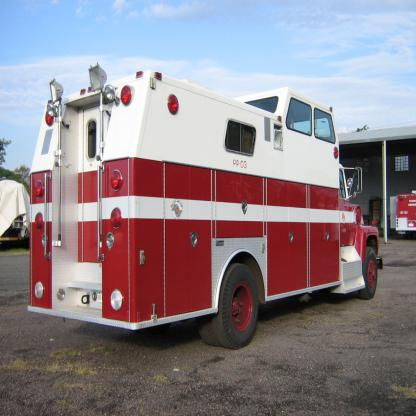Truck: (27, 63, 384, 348), (390, 188, 415, 242)
